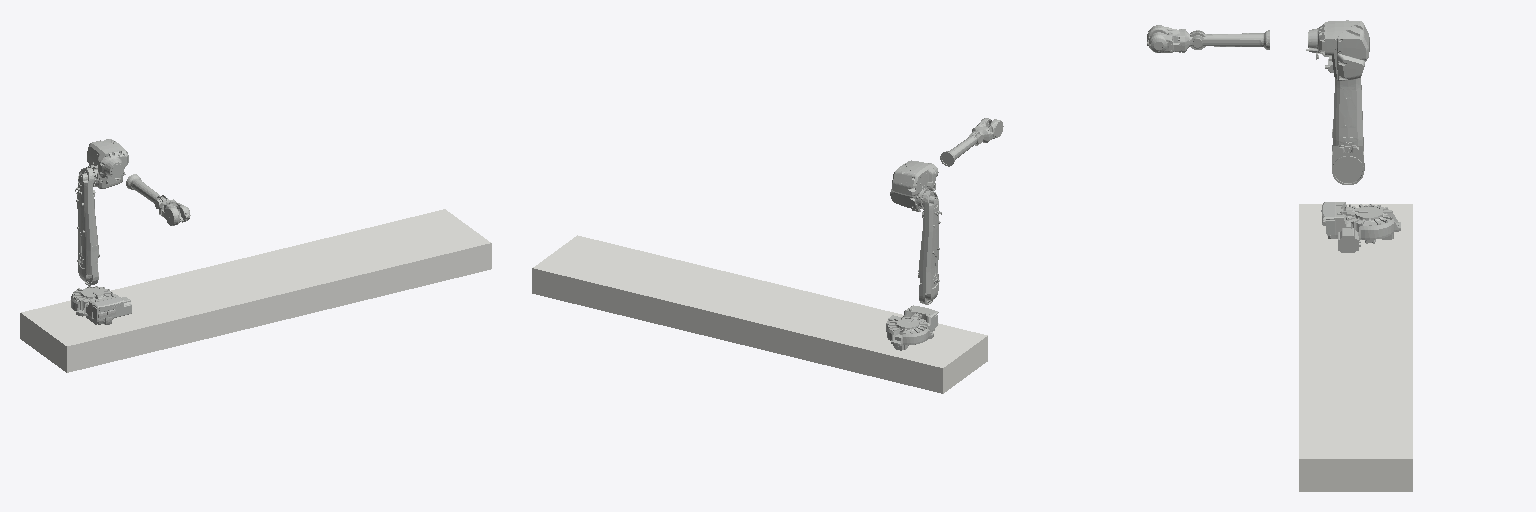
robot.urdf — abb_on_axis:
<?xml version="1.0" ?>
<!-- =================================================================================== -->
<!-- |    This document was autogenerated by xacro from abb_on_axis.xacro              | -->
<!-- |    EDITING THIS FILE BY HAND IS NOT RECOMMENDED                                 | -->
<!-- =================================================================================== -->
<robot name="abb_on_axis">
  <!-- Conversion were obtained from http://www.e-paint.co.uk/Lab_values.asp
       unless otherwise stated. -->
  <!-- Conversion were obtained from http://www.e-paint.co.uk/Lab_values.asp
       unless otherwise stated. -->
  <!-- LINEAR AXIS -->
  <!-- linear axis link list -->
  <link name="axis">
    <inertial>
      <origin xyz="0.0 0.0 0.0"/>
      <mass value="120"/>
      <inertia ixx="-4.98000" ixy="-0.00000" ixz="2.70000" iyy="-5.95200" iyz="-0.00000" izz="0.82800"/>
    </inertial>
    <visual>
      <geometry>
        <mesh filename="package://ECL_tracks/meshes/visual/axis.stl"/>
      </geometry>
      <material name="">
        <color rgba="0.9254902 0.9254902 0.9058824 1"/>
      </material>
    </visual>
    <collision>
      <geometry>
        <mesh filename="package://ECL_tracks/meshes/collision/axis.stl"/>
      </geometry>
    </collision>
  </link>
  <link name="cart">
    <inertial>
      <origin xyz="0.0 0.0 0.0"/>
      <mass value="120.00000"/>
      <inertia ixx="-4.98000" ixy="-0.00000" ixz="2.70000" iyy="-5.95200" iyz="-0.00000" izz="0.82800"/>
    </inertial>
    <visual>
      <geometry>
        <mesh filename="package://ECL_tracks/meshes/visual/cart.stl"/>
      </geometry>
      <material name="">
        <color rgba="0.9254902 0.9254902 0.9058824 1"/>
      </material>
    </visual>
    <collision>
      <geometry>
        <mesh filename="package://ECL_tracks/meshes/collision/cart.stl"/>
      </geometry>
    </collision>
  </link>
  <!-- linear axis joint list -->
  <joint name="cart_joint" type="prismatic">
    <parent link="axis"/>
    <child link="cart"/>
    <origin rpy="0 0 0 " xyz="0 0 0"/>
    <axis xyz="1 0 0"/>
    <limit effort="100000" lower="0" upper="3.9" velocity="2.618"/>
    <dynamics damping="0.2" friction="0"/>
  </joint>
  <joint name="abb_joint" type="fixed">
    <parent link="cart"/>
    <child link="base_link"/>
    <origin rpy="0 0 1.5707963267948966 " xyz="0 0 0 "/>
    <dynamics damping="0.2" friction="0"/>
  </joint>
  <!-- ARE WE MISSING A WORLD TO AXIS fixed joint? for only the abb_on_axis group?-->
  <!-- GRIPPER -->
  <!-- gripper link list -->
  <link name="gripper">
    <visual>
      <geometry>
        <mesh filename="package://abb_irb4600_40_255/meshes/visual/gripper.stl"/>
      </geometry>
    </visual>
    <collision>
      <geometry>
        <mesh filename="package://abb_irb4600_40_255/meshes/collision/gripper.stl"/>
      </geometry>
    </collision>
  </link>
  <link name="tcp"/>
  <!-- gripper joint list -->
  <joint name="gripper_joint" type="fixed">
    <parent link="tool0"/>
    <child link="gripper"/>
    <origin rpy="0 0 0" xyz="0 0 0"/>
  </joint>
  <joint name="tcp_joint" type="fixed">
    <parent link="gripper"/>
    <child link="tcp"/>
    <origin rpy="0 0 0" xyz="0 0 0.352"/>
  </joint>
  <!-- IRB4600 -->
  <!-- irb4600 link list -->
  <link name="base_link">
    <inertial>
      <origin xyz="0.0 0.0 0.0"/>
      <mass value="120.00000"/>
      <inertia ixx="-4.98000" ixy="-0.00000" ixz="2.70000" iyy="-5.95200" iyz="-0.00000" izz="0.82800"/>
    </inertial>
    <visual>
      <geometry>
        <mesh filename="package://abb_irb4600_40_255/meshes/visual/base_link.stl"/>
      </geometry>
      <material name="">
        <color rgba="0.7725490 0.7803922 0.7686275 1"/>
      </material>
    </visual>
    <collision>
      <geometry>
        <mesh filename="package://abb_irb4600_40_255/meshes/collision/base_link.stl"/>
      </geometry>
    </collision>
  </link>
  <link name="link_1">
    <inertial>
      <origin xyz="0.18000 0.00000 0.50000"/>
      <mass value="120.00000"/>
      <inertia ixx="-4.98000" ixy="-0.00000" ixz="2.70000" iyy="-5.95200" iyz="-0.00000" izz="0.82800"/>
    </inertial>
    <visual>
      <geometry>
        <mesh filename="package://abb_irb4600_40_255/meshes/visual/link_1.stl"/>
      </geometry>
      <material name="">
        <color rgba="0.7725490 0.7803922 0.7686275 1"/>
      </material>
    </visual>
    <collision>
      <geometry>
        <mesh filename="package://abb_irb4600_40_255/meshes/collision/link_1.stl"/>
      </geometry>
    </collision>
  </link>
  <link name="link_2">
    <inertial>
      <origin xyz="0.94000 0.08000 -0.34000"/>
      <mass value="120.00000"/>
      <inertia ixx="-2.96000" ixy="2.25600" ixz="-9.58800" iyy="-18.72601" iyz="-0.81600" izz="-14.95000"/>
    </inertial>
    <visual>
      <geometry>
        <mesh filename="package://abb_irb4600_40_255/meshes/visual/link_2.stl"/>
      </geometry>
      <material name="">
        <color rgba="0.7725490 0.7803922 0.7686275 1"/>
      </material>
    </visual>
    <collision>
      <geometry>
        <mesh filename="package://abb_irb4600_40_255/meshes/collision/link_2.stl"/>
      </geometry>
    </collision>
  </link>
  <link name="link_3">
    <inertial>
      <origin xyz="0.07000 -0.26600 0.08800"/>
      <mass value="120.00000"/>
      <inertia ixx="1.34500" ixy="-0.55860" ixz="0.18480" iyy="4.65068" iyz="-0.70224" izz="2.76032"/>
    </inertial>
    <visual>
      <geometry>
        <mesh filename="package://abb_irb4600_40_255/meshes/visual/link_3.stl"/>
      </geometry>
      <material name="">
        <color rgba="0.7725490 0.7803922 0.7686275 1"/>
      </material>
    </visual>
    <collision>
      <geometry>
        <mesh filename="package://abb_irb4600_40_255/meshes/collision/link_3.stl"/>
      </geometry>
    </collision>
  </link>
  <link name="link_4">
    <inertial>
      <origin xyz="0.00000 0.00000 1.00000"/>
      <mass value="40.00000"/>
      <inertia ixx="-8.00000" ixy="-0.00000" ixz="-0.00000" iyy="-8.00000" iyz="-0.00000" izz="0.48200"/>
    </inertial>
    <visual>
      <geometry>
        <mesh filename="package://abb_irb4600_40_255/meshes/visual/link_4.stl"/>
      </geometry>
      <material name="">
        <color rgba="0.7725490 0.7803922 0.7686275 1"/>
      </material>
    </visual>
    <collision>
      <geometry>
        <mesh filename="package://abb_irb4600_40_255/meshes/collision/link_4.stl"/>
      </geometry>
    </collision>
  </link>
  <link name="link_5">
    <inertial>
      <origin xyz="0.14000 0.00000 0.00000"/>
      <mass value="10.00000"/>
      <inertia ixx="0.04000" ixy="-0.00000" ixz="-0.00000" iyy="-0.00900" iyz="-0.00000" izz="-0.00400"/>
    </inertial>
    <visual>
      <geometry>
        <mesh filename="package://abb_irb4600_40_255/meshes/visual/link_5.stl"/>
      </geometry>
      <material name="">
        <color rgba="0.7725490 0.7803922 0.7686275 1"/>
      </material>
    </visual>
    <collision>
      <geometry>
        <mesh filename="package://abb_irb4600_40_255/meshes/collision/link_5.stl"/>
      </geometry>
    </collision>
  </link>
  <link name="link_6">
    <inertial>
      <origin xyz="0.08100 -0.09100 0.33200"/>
      <mass value="5.00000"/>
      <inertia ixx="-0.29652" ixy="-0.03686" ixz="0.09396" iyy="-0.28792" iyz="-0.10556" izz="-0.04621"/>
    </inertial>
    <visual>
      <geometry>
        <mesh filename="package://abb_irb4600_40_255/meshes/visual/link_6.stl"/>
      </geometry>
      <material name="">
        <color rgba="0.1882353 0.1960784 0.2039216 1"/>
      </material>
    </visual>
    <collision>
      <geometry>
        <mesh filename="package://abb_irb4600_40_255/meshes/collision/link_6.stl"/>
      </geometry>
    </collision>
  </link>
  <link name="tool0"/>
  <!-- irb4600 joint list -->
  <joint name="joint_1" type="revolute">
    <parent link="base_link"/>
    <child link="link_1"/>
    <origin rpy="0 0 0 " xyz="0 0 0"/>
    <axis xyz="0 0 1"/>
    <limit effort="100000" lower="-3.141592653589793" upper="-3.141592653589793" velocity="2.618"/>
    <dynamics damping="0.2" friction="0"/>
  </joint>
  <joint name="joint_2" type="revolute">
    <parent link="link_1"/>
    <child link="link_2"/>
    <origin rpy="0 0 0 " xyz="0.175 0 0.495"/>
    <axis xyz="0 1 0"/>
    <limit effort="100000" lower="-1.3089969389957472" upper="2.6179938779914944" velocity="2.618"/>
    <dynamics damping="0.2" friction="0"/>
  </joint>
  <joint name="joint_3" type="revolute">
    <parent link="link_2"/>
    <child link="link_3"/>
    <origin rpy="0 0 0 " xyz="0 0 1.095"/>
    <axis xyz="0 1 0"/>
    <limit effort="100000" lower="-3.141592653589793" upper="1.3089969389957472" velocity="2.618"/>
    <dynamics damping="0.2" friction="0"/>
  </joint>
  <joint name="joint_4" type="revolute">
    <parent link="link_3"/>
    <child link="link_4"/>
    <origin rpy="0 0 0 " xyz="0.332 0 0.175"/>
    <axis xyz="1 0 0"/>
    <limit effort="10000" lower="-6.981317007977318" upper="6.981317007977318" velocity="6.2832"/>
    <dynamics damping="0.2" friction="0"/>
  </joint>
  <joint name="joint_5" type="revolute">
    <parent link="link_4"/>
    <child link="link_5"/>
    <origin rpy="0 0 0 " xyz="0.939 0 0"/>
    <axis xyz="0 1 0"/>
    <limit effort="100000" lower="-2.181661564992912" upper="2.0943951023931953" velocity="6.2832"/>
    <dynamics damping="0.2" friction="0"/>
  </joint>
  <joint name="joint_6" type="revolute">
    <parent link="link_5"/>
    <child link="link_6"/>
    <origin rpy="0 0 0 " xyz="0.135 0 0"/>
    <axis xyz="1 0 0"/>
    <limit effort="100000" lower="-6.981317007977318" upper="6.981317007977318" velocity="7.854"/>
    <dynamics damping="0.2" friction="0"/>
  </joint>
  <joint name="joint_6-tool0" type="fixed">
    <parent link="link_6"/>
    <child link="tool0"/>
    <origin rpy="0 1.5707963267948966 0" xyz="0 0 0"/>
  </joint>
  <!-- -->
  <!-- IRB4600 base_link to ABB World Coordinates transform -->
  <link name="base"/>
  <joint name="base_link-base" type="fixed">
    <parent link="base_link"/>
    <child link="base"/>
    <origin rpy="0 0 0" xyz="0 0 0"/>
  </joint>
</robot>

--- Facts derived from the render (not from the file) ---
The picture shows the robot from 3 angles, left to right: view 1: azimuth 30°, elevation 25°; view 2: azimuth 150°, elevation 25°; view 3: azimuth 270°, elevation 25°; orthographic projection.
Robot: abb_on_axis — 13 links, 12 joints (6 revolute, 1 prismatic, 5 fixed); root link axis; default pose: joints at zero except 1 at the middle of their limits (joint_1 = -3.14).
Links seen in each view (by area): view 1: axis, link_2, link_3, base_link, link_4; view 2: axis, link_2, link_3, base_link, link_4; view 3: axis, link_2, link_3, base_link, link_4, link_1.
Boxes of the visible links, x1,y1,x2,y2 form: axis: (20,209,491,372); link_2: (75,167,99,285); link_3: (86,139,128,188); base_link: (71,286,123,319); link_4: (126,174,190,225); axis: (532,235,987,393); link_2: (918,190,941,304); link_3: (890,160,938,211); base_link: (887,305,938,346); link_4: (940,118,1003,166); axis: (1299,204,1412,491); link_2: (1332,78,1364,184); link_3: (1306,20,1369,80); base_link: (1321,202,1400,240); link_4: (1147,25,1269,52); link_1: (1327,204,1393,252).
Bounding box of the posed robot: 5.09 × 2.25 × 2.3 m (x, y, z).
Meshes: 10 distinct files referenced, 8 mesh visuals loaded (8 binary STL); not drawn: 2 (reference not matched to a file when rendering).